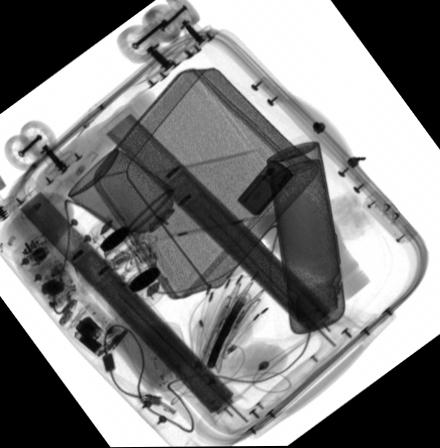Lighter: (237, 159, 293, 215)
Sprayer: (66, 146, 196, 245)
